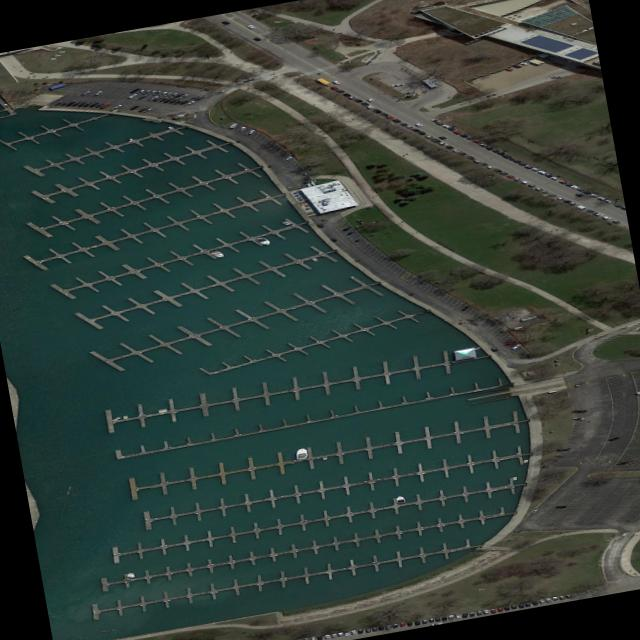ship: (250, 235, 272, 245), (292, 446, 307, 460), (205, 249, 225, 257), (391, 494, 406, 504), (155, 96, 169, 101), (124, 571, 134, 578), (278, 219, 291, 224)
small-vehicle: (553, 445, 570, 451), (338, 224, 352, 231), (169, 98, 184, 104), (483, 91, 498, 97), (134, 93, 148, 99), (139, 106, 152, 112), (427, 137, 442, 142), (605, 435, 620, 440), (134, 106, 149, 111), (149, 96, 164, 101), (159, 97, 174, 102), (457, 304, 469, 310), (568, 408, 586, 412), (615, 459, 629, 464), (126, 87, 140, 92), (434, 140, 448, 145), (589, 211, 603, 216), (85, 101, 99, 106), (145, 95, 159, 100), (165, 97, 179, 102), (368, 108, 382, 113), (226, 121, 237, 127), (77, 90, 90, 95), (462, 154, 475, 159), (496, 170, 509, 175), (507, 343, 520, 348), (429, 620, 442, 625), (149, 89, 162, 94), (531, 186, 544, 191), (564, 200, 577, 205), (343, 229, 356, 234), (79, 101, 92, 106), (57, 100, 70, 105), (176, 99, 189, 104), (191, 95, 204, 100), (503, 173, 515, 178), (508, 176, 520, 181), (550, 453, 565, 457), (538, 189, 550, 194), (515, 160, 527, 165), (454, 150, 466, 155), (352, 235, 364, 240), (587, 192, 599, 197), (610, 202, 622, 207), (598, 214, 610, 219), (109, 103, 121, 108), (91, 102, 103, 107), (74, 101, 86, 106), (63, 100, 75, 105), (182, 99, 194, 104), (177, 93, 189, 98), (171, 92, 183, 97), (166, 91, 178, 96), (280, 155, 292, 160), (395, 121, 407, 126), (376, 111, 388, 116), (572, 204, 586, 208), (133, 88, 144, 93), (244, 23, 255, 28), (490, 167, 501, 172), (518, 179, 529, 184), (536, 169, 547, 174), (528, 166, 539, 171), (521, 163, 532, 168), (448, 147, 459, 152), (594, 195, 605, 200), (469, 138, 480, 143), (456, 132, 467, 137), (450, 129, 461, 134), (382, 114, 393, 119), (389, 117, 400, 122), (363, 103, 374, 108), (562, 592, 571, 598), (315, 221, 324, 227), (482, 164, 495, 168), (558, 198, 571, 202), (241, 77, 254, 81), (608, 218, 621, 222), (126, 105, 139, 109), (389, 82, 402, 86), (219, 19, 229, 24), (528, 507, 538, 512), (528, 600, 538, 605), (535, 598, 545, 603), (549, 595, 559, 600), (463, 135, 473, 140), (483, 145, 493, 150), (477, 141, 487, 146), (428, 117, 438, 122), (433, 120, 443, 125), (415, 129, 425, 134), (412, 121, 422, 126), (345, 94, 355, 99), (351, 97, 361, 102), (516, 602, 524, 608), (508, 603, 516, 609), (313, 634, 321, 640), (355, 627, 363, 633), (375, 624, 383, 630), (138, 89, 150, 93), (567, 184, 579, 188), (561, 182, 573, 186), (554, 179, 566, 183), (524, 182, 536, 186), (546, 175, 558, 179), (541, 172, 553, 176), (498, 154, 510, 158), (493, 151, 505, 155), (583, 208, 595, 212), (578, 189, 590, 193), (601, 198, 613, 202), (51, 100, 63, 104), (125, 93, 137, 97), (161, 91, 173, 95), (422, 134, 434, 138), (556, 594, 565, 599), (488, 346, 497, 351), (236, 125, 245, 130), (470, 158, 481, 162), (476, 161, 487, 165), (145, 89, 156, 93), (553, 196, 564, 200), (544, 192, 555, 196), (442, 144, 453, 148), (489, 148, 500, 152), (517, 60, 528, 64), (509, 63, 520, 67), (501, 66, 512, 70), (572, 192, 583, 196), (156, 90, 167, 94), (69, 101, 80, 105), (187, 95, 198, 99), (329, 79, 340, 83), (444, 126, 455, 130), (439, 123, 450, 127), (409, 127, 420, 131), (402, 124, 413, 128), (333, 88, 344, 92), (339, 92, 350, 96), (403, 89, 414, 93), (335, 630, 342, 636), (411, 619, 418, 625), (91, 90, 101, 94), (501, 605, 509, 610), (348, 629, 356, 634), (369, 626, 377, 631), (418, 618, 426, 623), (439, 615, 447, 620), (488, 607, 496, 612), (573, 187, 583, 191), (328, 236, 336, 241), (245, 129, 253, 134), (328, 85, 338, 89), (357, 101, 367, 105), (365, 96, 373, 101), (553, 504, 566, 507), (549, 74, 562, 77), (251, 36, 260, 40), (436, 135, 445, 139), (571, 416, 583, 419), (397, 621, 404, 626), (322, 633, 329, 638), (363, 627, 370, 632), (390, 622, 397, 627), (404, 620, 411, 625), (494, 606, 501, 611), (426, 617, 433, 622), (432, 616, 439, 621), (453, 613, 460, 618), (459, 612, 466, 617), (467, 610, 474, 615), (481, 608, 488, 613), (543, 597, 551, 601), (308, 635, 314, 640), (329, 632, 335, 637), (342, 630, 348, 635), (384, 623, 390, 628), (475, 609, 481, 614), (523, 602, 530, 606), (301, 636, 307, 640), (447, 614, 453, 618), (572, 382, 577, 386), (292, 638, 299, 640), (288, 639, 293, 640)
